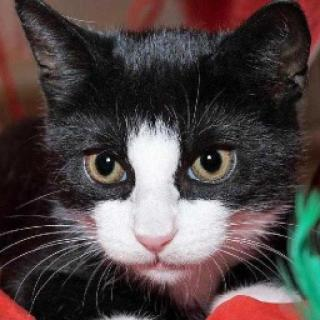cat: (28, 2, 314, 282)
nose: (127, 192, 188, 254)
